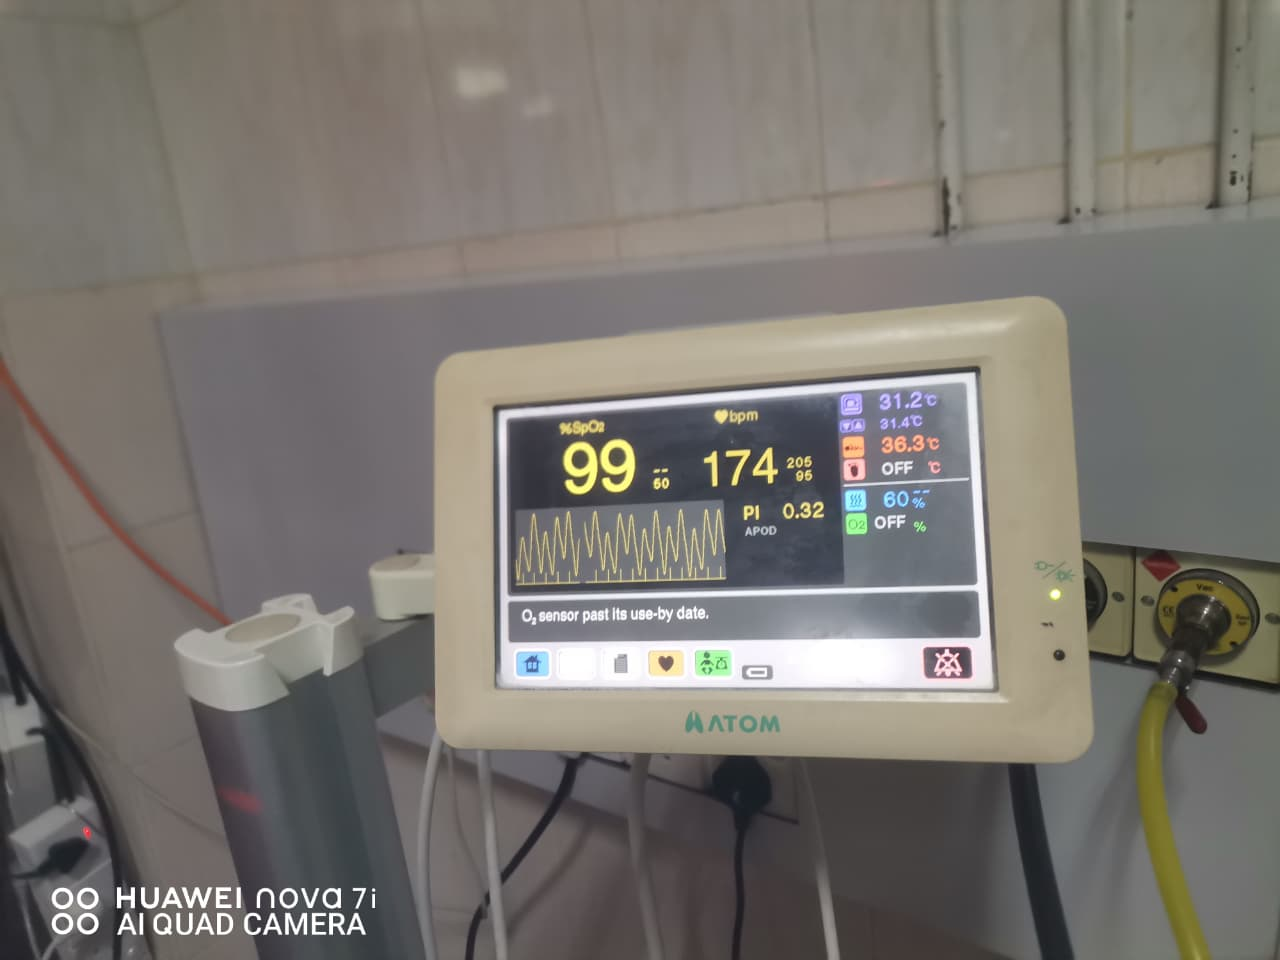heart_rate_value: (698, 442, 780, 494)
humidity_value: (877, 488, 911, 513)
skin_temp_value: (876, 433, 924, 457)
spo2_value: (549, 440, 641, 498)
